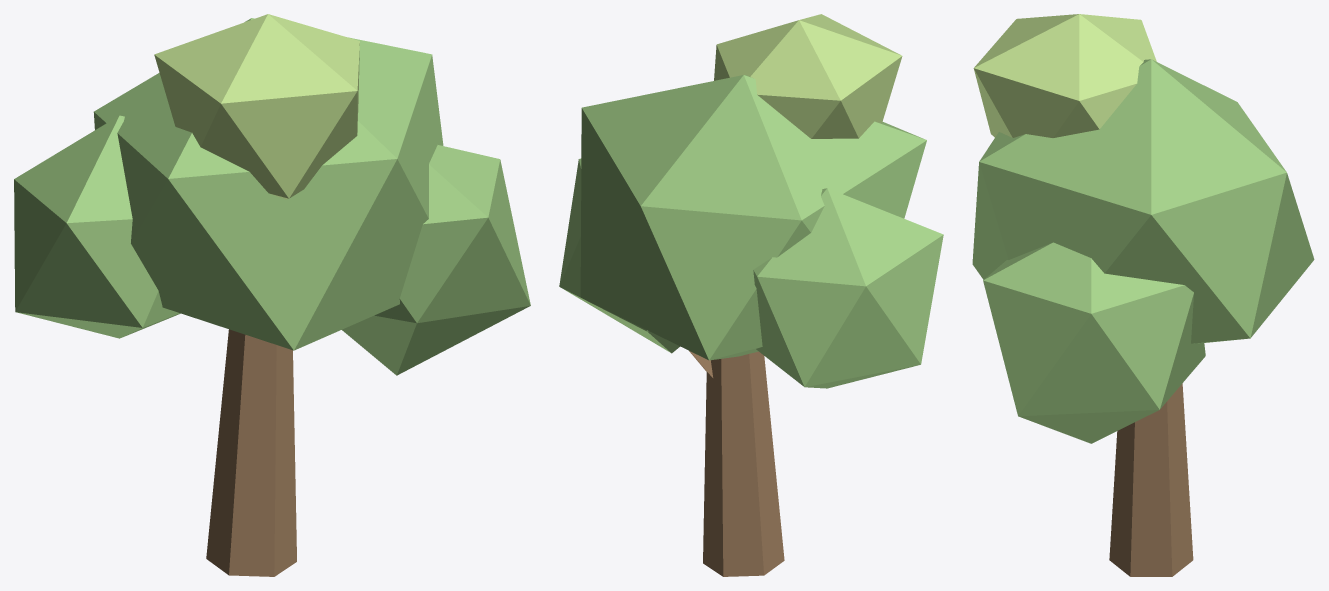
The model's file is tree_round.glb.
3 renders of one model, left to right at view 1: azimuth 30°, elevation 25°; view 2: azimuth 150°, elevation 25°; view 3: azimuth 270°, elevation 25°, orthographic. The views are drawn at different scales.
Parts seen in each view (by area): view 1: tree_round; view 2: tree_round; view 3: tree_round.
Part boxes in pixels (box(x1,y1,x2,y2)): tree_round: box(14, 14, 530, 576); tree_round: box(559, 14, 943, 576); tree_round: box(972, 14, 1314, 576).
Bounding box in the file's own units: 0.3848 × 0.494 × 0.2849.
